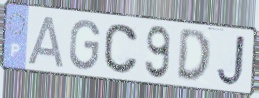9: (144, 23, 173, 81)
A: (26, 14, 67, 70)
C: (103, 22, 140, 76)
D: (175, 28, 213, 85)
G: (67, 18, 102, 72)
J: (215, 33, 248, 88)
